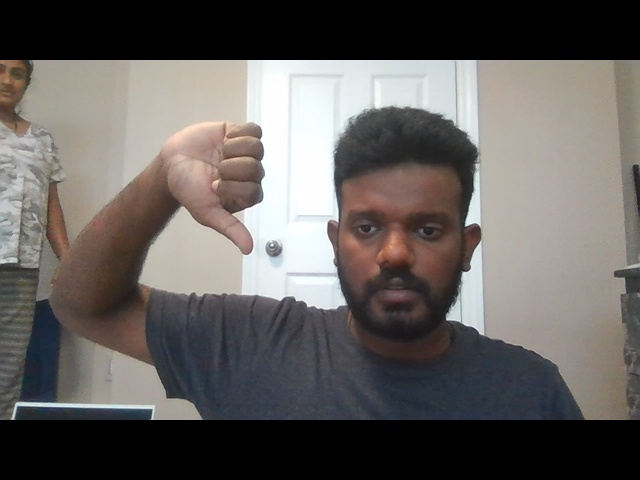no: (159, 118, 269, 258)
